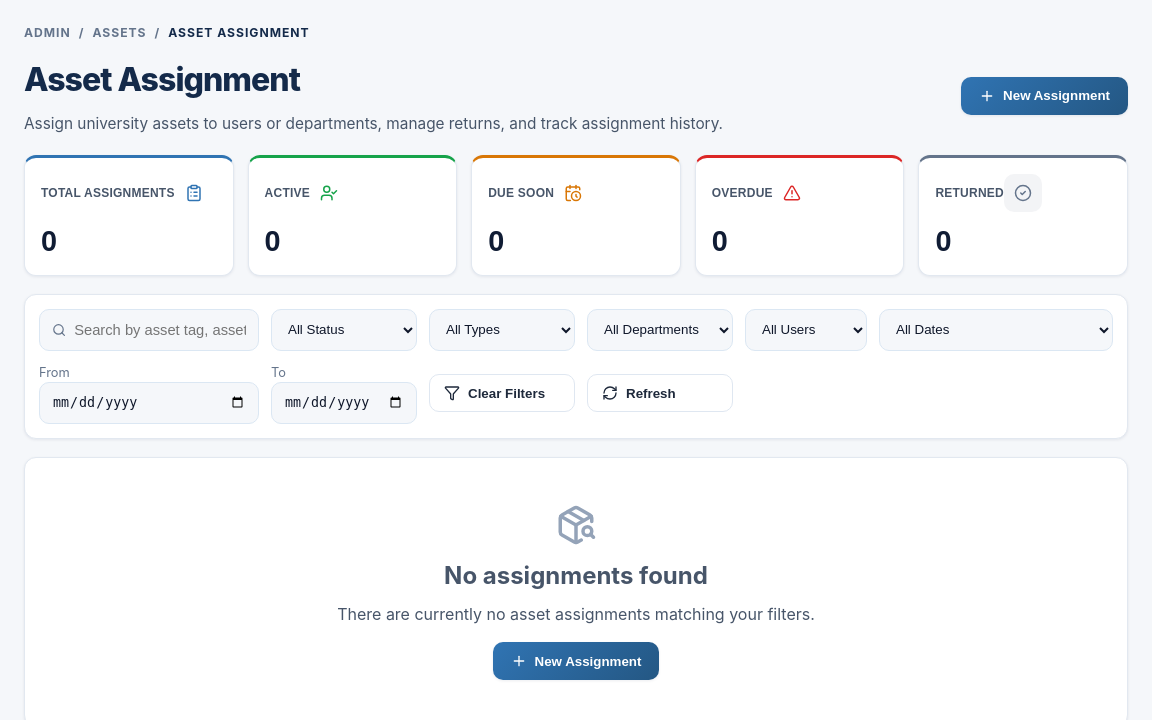
Test: New Assignment form › accepts a manually entered asset ID, filters inactive users, and creates a user assignment
The width and height of the screenshot is (1152, 720).
Click the 1st button "New Assignment" at (1045, 96), box [961, 77, 1128, 115]
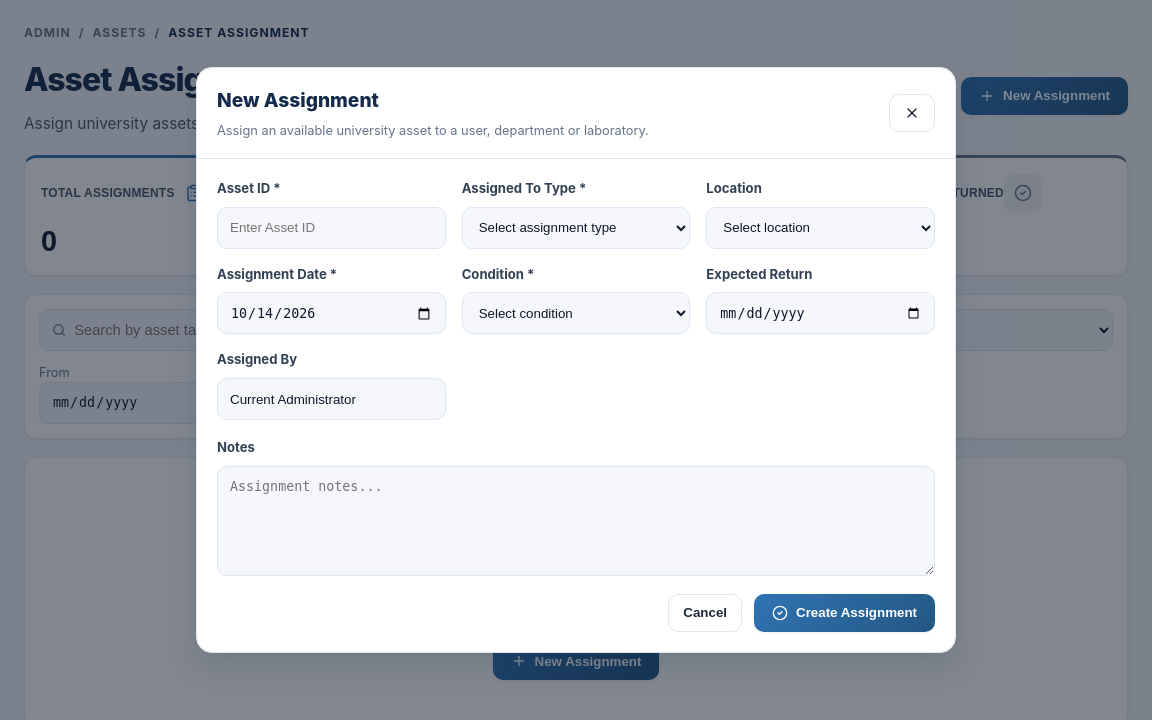
Now the field labelled "Asset ID *" is empty
Type "11" into the field labelled "Asset ID *" at (331, 228), box [217, 207, 446, 249]
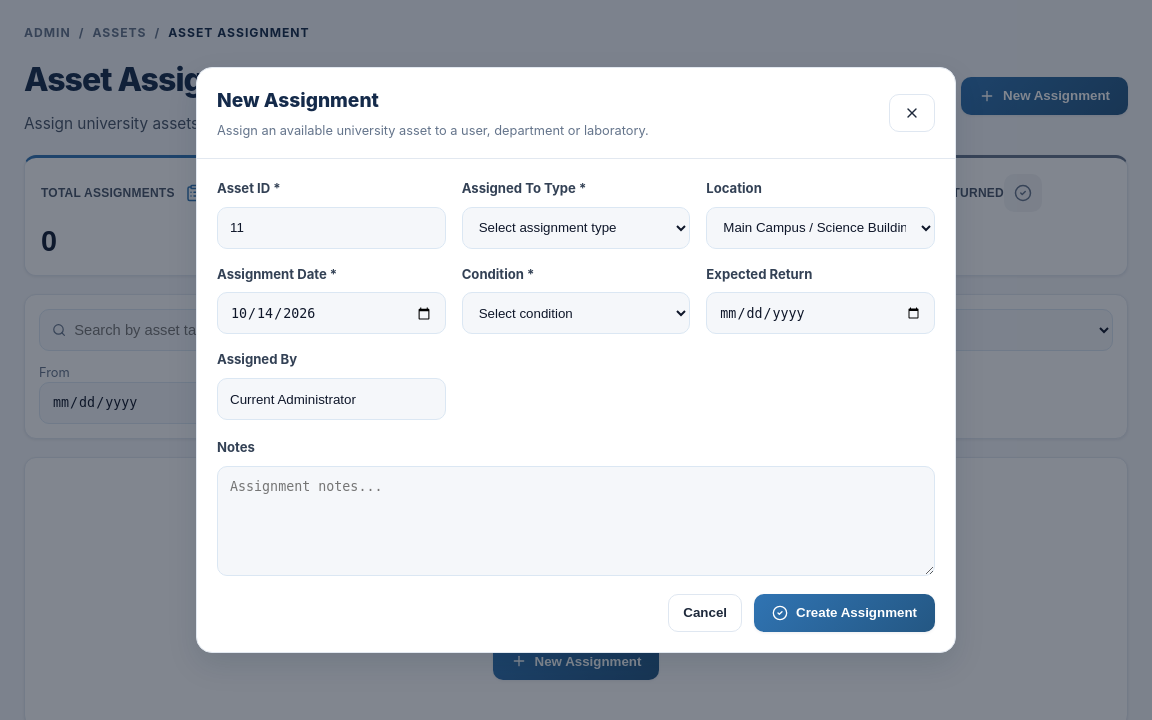
Select "User" in the dropdown labelled "Assigned To Type *" at (576, 228), box [462, 207, 690, 249]
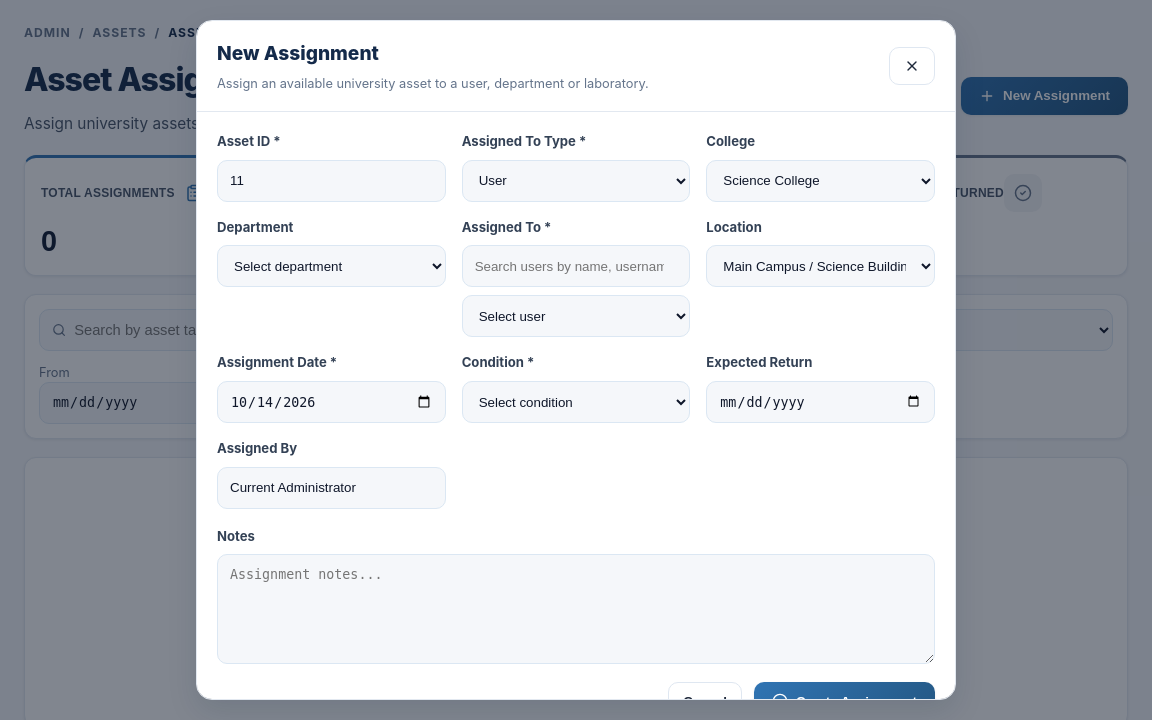
Select "Aster Bekele — aster — lecturer" in the dropdown labelled "Assigned To *" at (576, 316), box [462, 295, 690, 337]
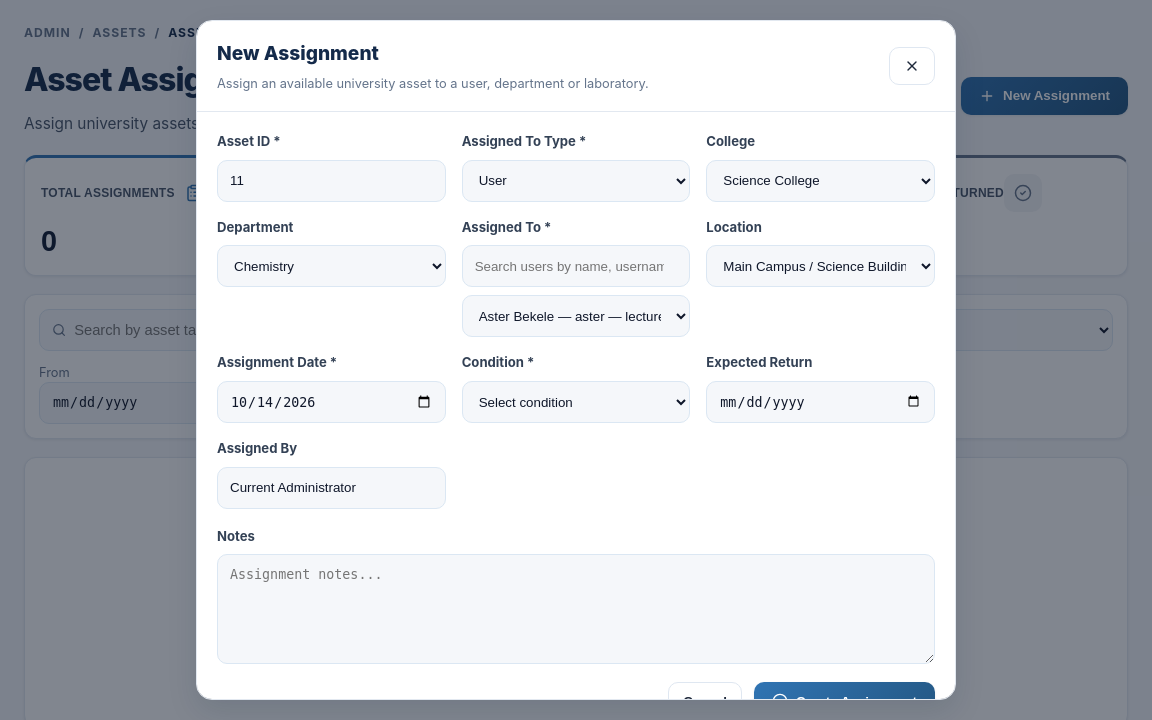
Select "Good" in the dropdown labelled "Condition *" at (576, 402), box [462, 381, 690, 423]
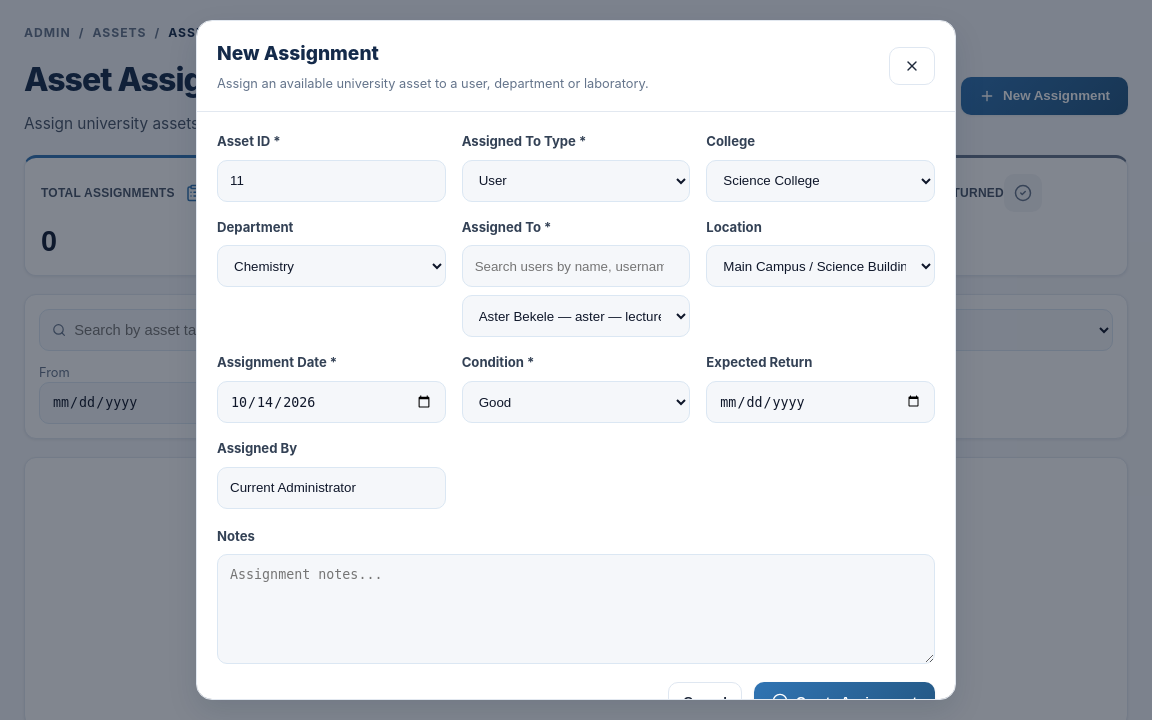
Now the field labelled "Assigned By" holds "Current Administrator", box [217, 467, 446, 509]
Now the dropdown labelled "Location" shows "Main Campus / Science Building / Science Lab", box [706, 245, 935, 287]
Submit the form labelled "Assigned To *", box [217, 132, 935, 719]
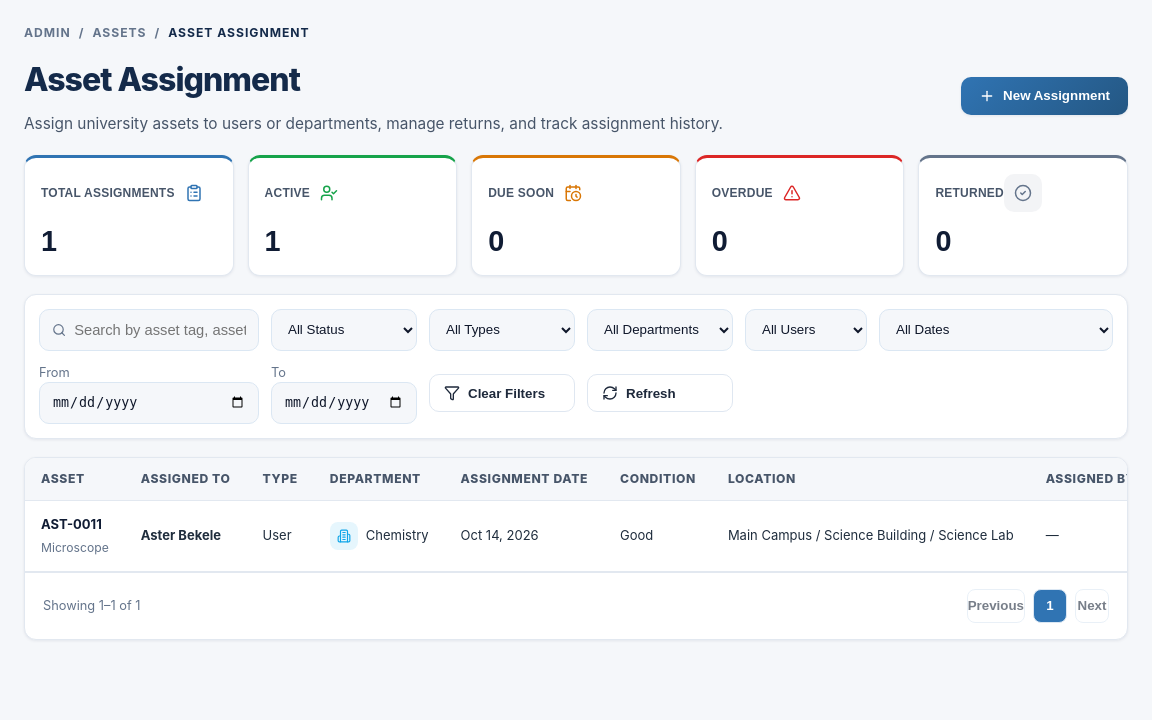
Now the column heading "Assigned To" is shown, box [125, 458, 246, 501]
Now the column heading "Type" is shown, box [247, 458, 314, 501]
Now the dialog is gone
